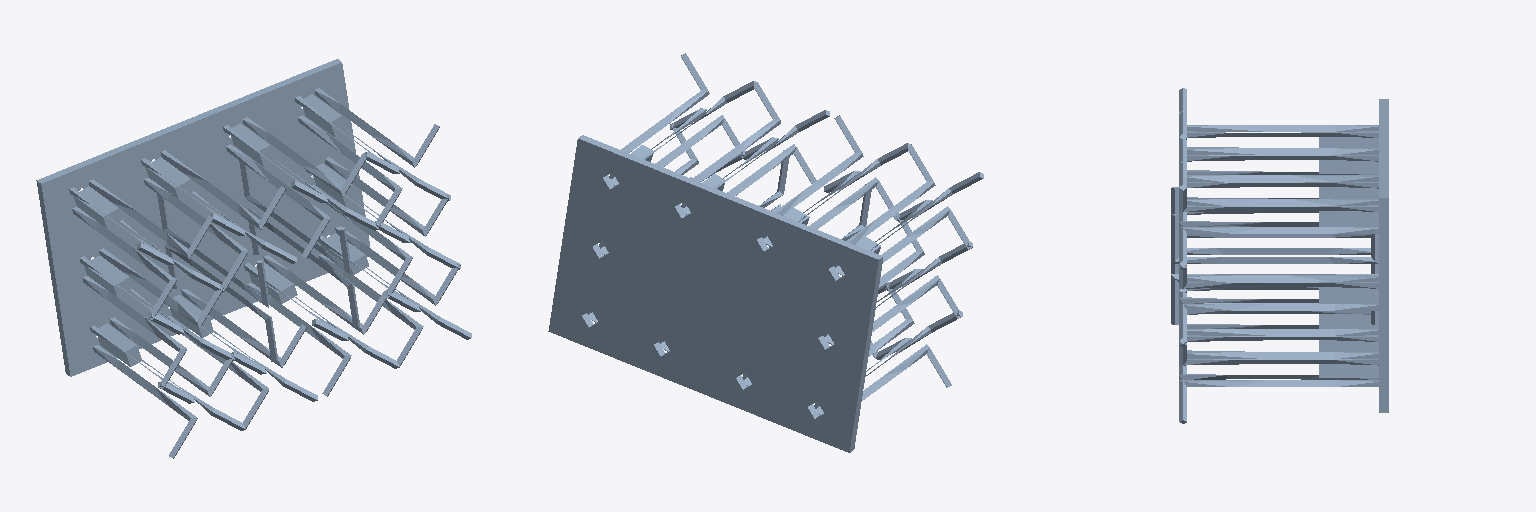
The picture shows the model from 3 angles: view 1: azimuth 30°, elevation 25°; view 2: azimuth 150°, elevation 25°; view 3: azimuth 270°, elevation 25°; orthographic projection.
Visible parts, largest first — view 1: g[number redacted]_1; view 2: g[number redacted]_1; view 3: g[number redacted]_1.
Part boxes in pixels (x1,y1,x2,y2): g[number redacted]_1: (36,59,471,458); g[number redacted]_1: (548,53,983,452); g[number redacted]_1: (1171,88,1388,423).
Bounding box in the file's own units: 96.66 × 74.89 × 54.4.